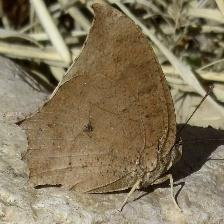butterfly: (20, 2, 183, 194)
